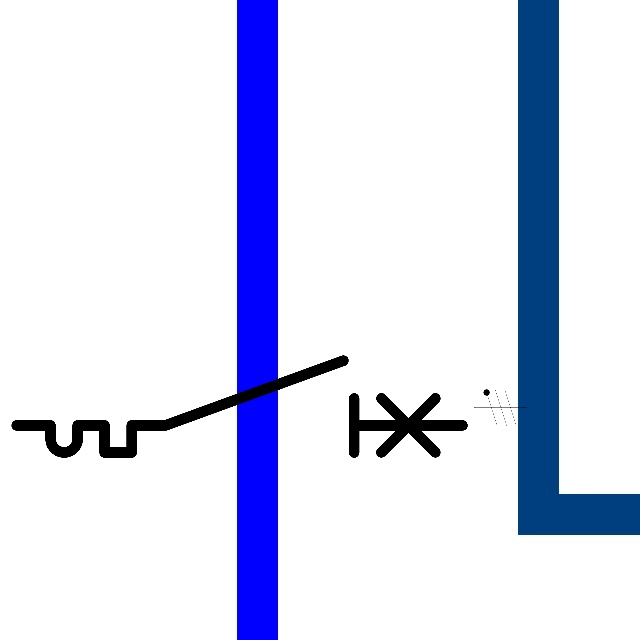interruptor_termomagnetico: (5, 349, 474, 464)
